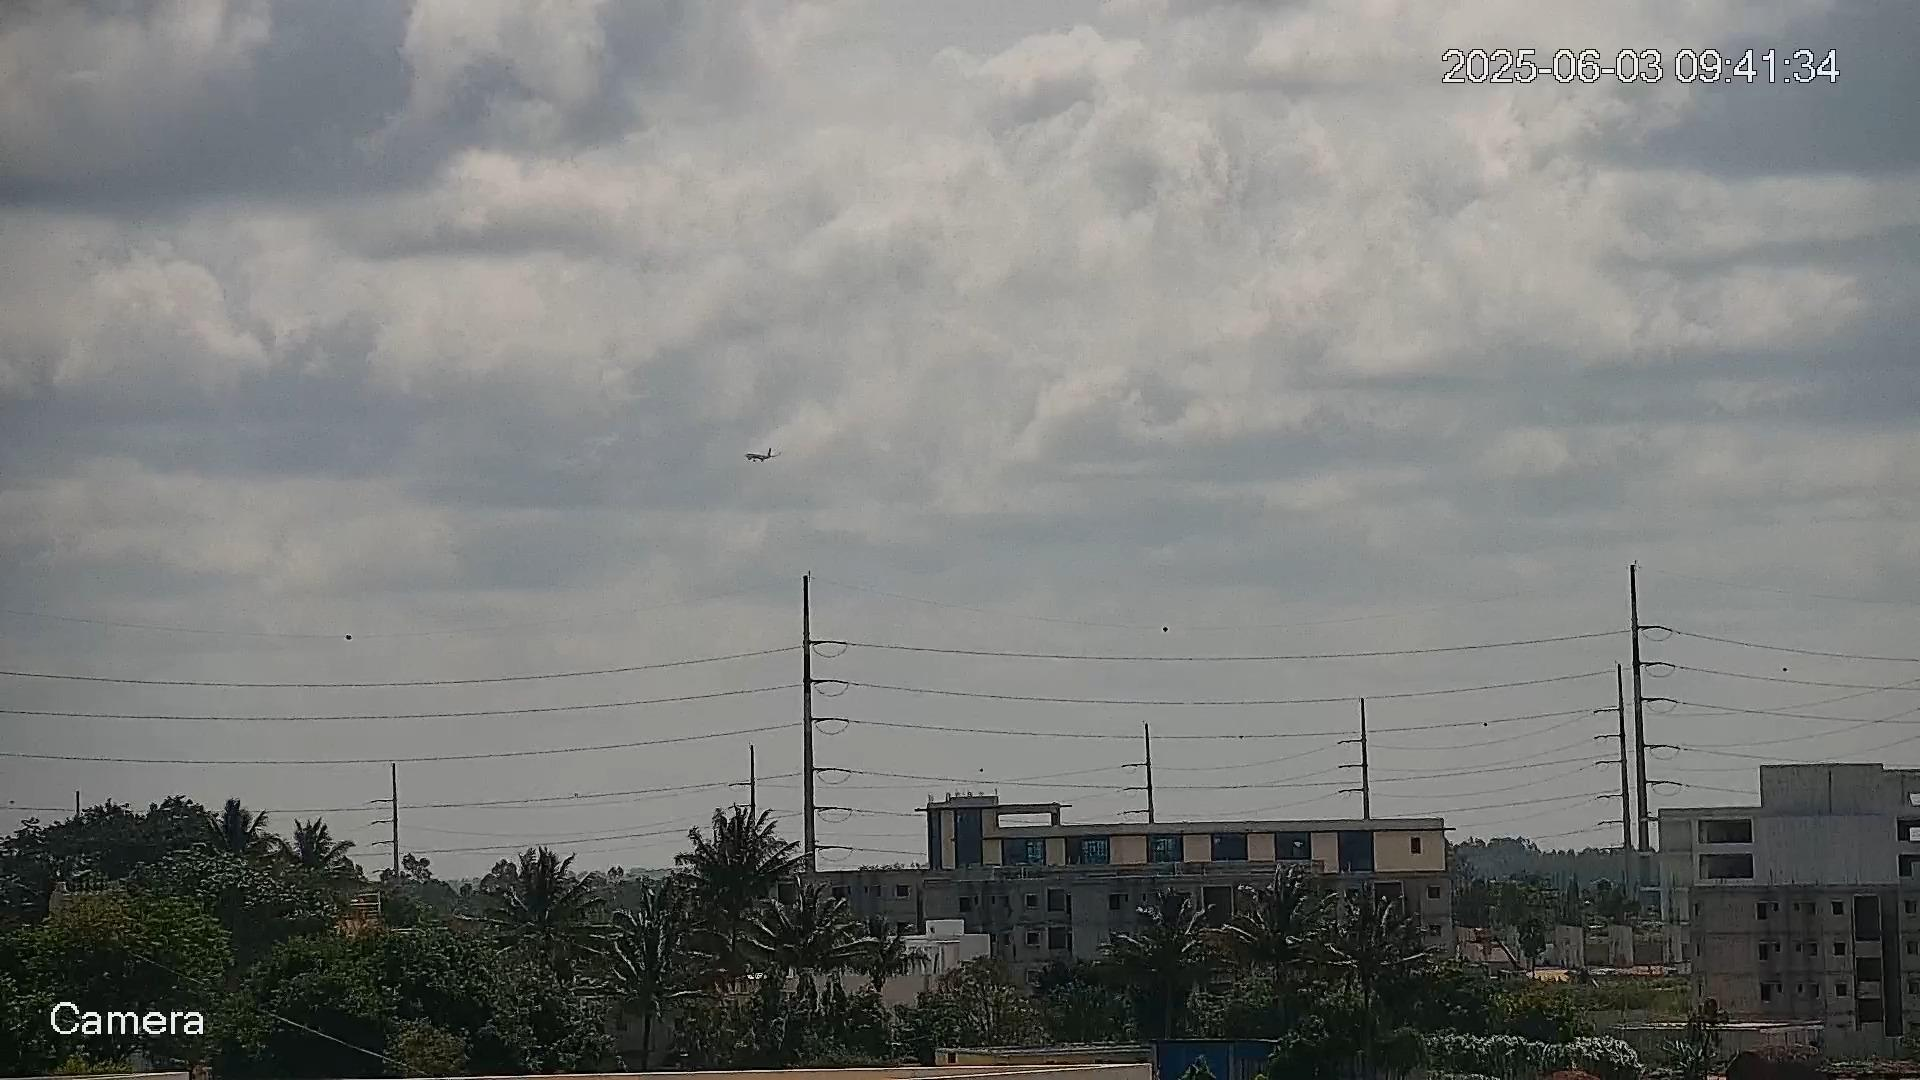Aircraft: (744, 446, 782, 463)
